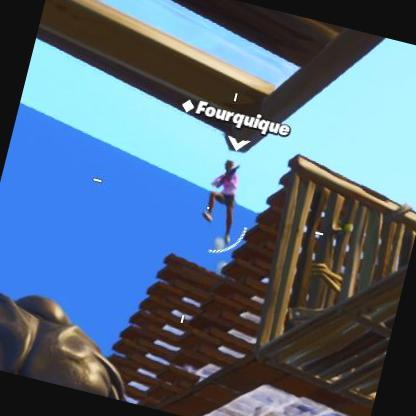person: (198, 157, 249, 240)
